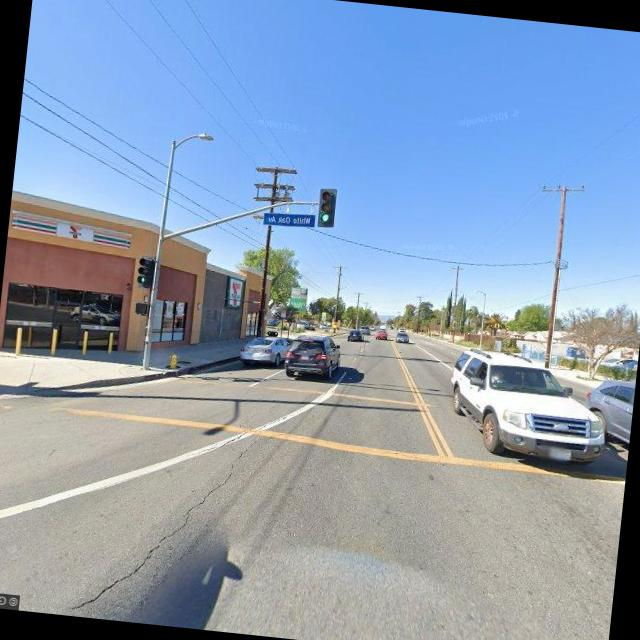pothole: (81, 396, 296, 631)
